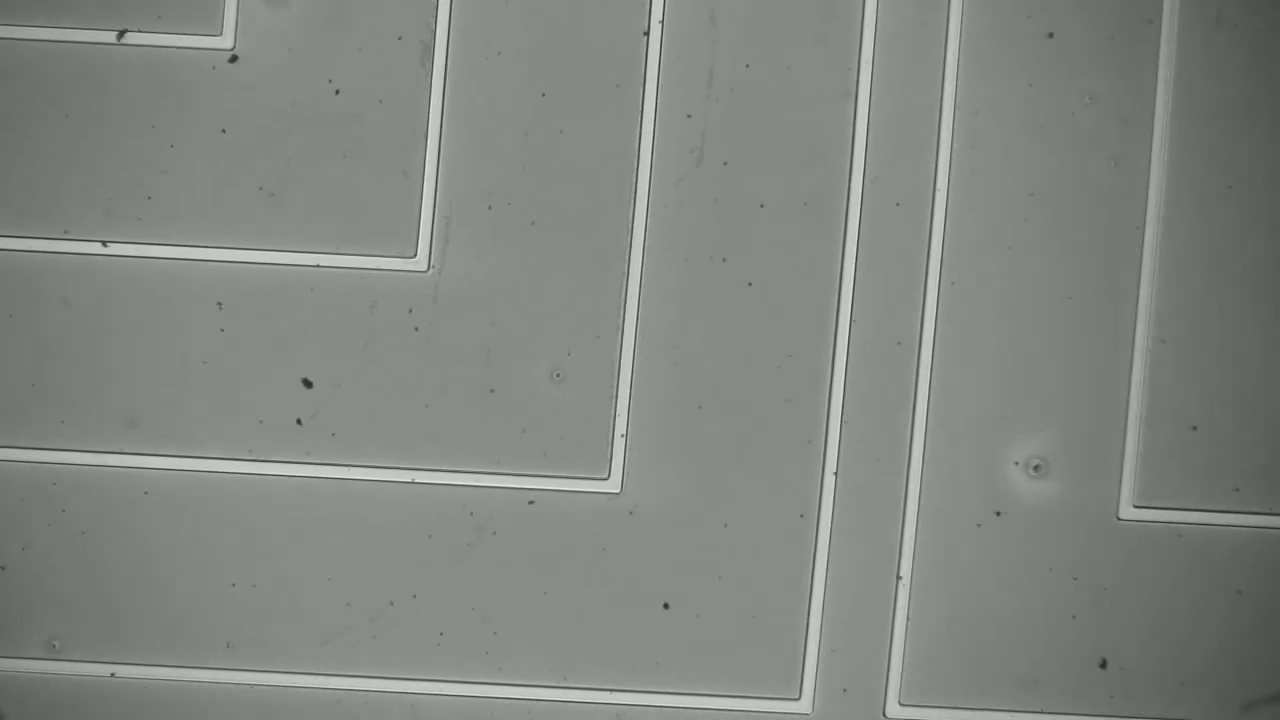stains_enbedded: (108, 21, 135, 54)
